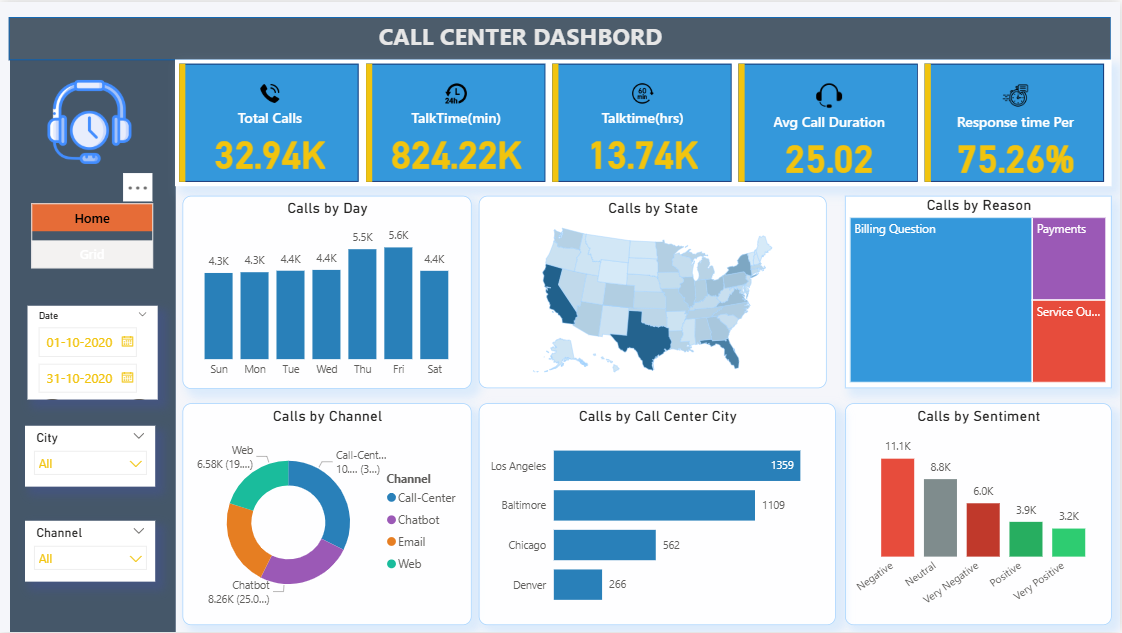

The page's visual inventory and layout, read from the dashboard file:
{"tool":"powerbi","page":{"name":"Home","canvas":[1280,720],"ordinal":0},"visuals":[{"type":"shape","box":[11,65.9,189.4,654.5],"z":0},{"type":"shape","box":[10.5,16.8,1259.6,49.4],"z":1000},{"type":"cardVisual","fields":{"Data":["_measures.Total Calls","_measures.TalkTime(min)","_measures.Talktime(hrs)","_measures.Avg Call Duration","_measures.Response time Per"]},"box":[199.8,66.2,1070.3,145.1],"z":2000},{"type":"textbox","box":[382.6,16.3,424.4,45.3],"z":3000},{"type":"clusteredColumnChart","title":" Calls by Day","fields":{"Y":["_measures.Total Calls"],"Category":["Calender.Day"]},"box":[208.1,220.9,330.2,220.9],"z":4000},{"type":"donutChart","title":" Calls by Channel","fields":{"Category":["calls.Channel"],"Y":["_measures.Total Calls"]},"box":[208.1,458.1,330.2,253.5],"z":5000},{"type":"shapeMap","title":" Calls by State","fields":{"Category":["calls.State"],"Value":["_measures.Total Calls"]},"box":[546.5,220.9,397.7,219.8],"z":6000},{"type":"treemap","title":" Calls by Reason","fields":{"Group":["calls.Reason"],"Values":["_measures.Total Calls"]},"box":[965.1,220.9,304.7,219.8],"z":7000},{"type":"clusteredColumnChart","title":" Calls by Sentiment","fields":{"Y":["_measures.Total Calls"],"Category":["calls.Sentiment"]},"box":[965.1,458.1,304.7,253.5],"z":8000},{"type":"clusteredBarChart","title":" Calls by Call Center City","fields":{"Category":["calls.Call_Centres_City"],"Y":["_measures.Total Calls"]},"box":[546.5,458.1,408.1,253.5],"z":9000},{"type":"slicer","title":"Date","fields":{"Values":["Calender.Date"]},"box":[31.4,347.7,148.8,107],"z":10000},{"type":"slicer","fields":{"Values":["calls.City"]},"box":[29.1,483.7,148.8,69.8],"z":11000},{"type":"slicer","fields":{"Values":["calls.Channel"]},"box":[29.1,593,148.8,69.8],"z":12000},{"type":"image","box":[41.9,84.9,122.1,105.8],"z":13000},{"type":"pageNavigator","box":[36,230.2,139.5,74.4],"z":14000}]}

Visuals, with their boxes in screenshot pixels (x1, y1, x2, y2), scaled from the page's 1280x720 canvas onto the 1122x633 screenshot:
shape: detection(10, 58, 176, 632)
shape: detection(9, 15, 1113, 58)
cardVisual - _measures.Total Calls x _measures.TalkTime(min): detection(175, 58, 1113, 186)
textbox: detection(335, 14, 707, 54)
" Calls by Day" clusteredColumnChart: detection(182, 194, 472, 388)
" Calls by Channel" donutChart: detection(182, 403, 472, 626)
" Calls by State" shapeMap: detection(479, 194, 828, 387)
" Calls by Reason" treemap: detection(846, 194, 1113, 387)
" Calls by Sentiment" clusteredColumnChart: detection(846, 403, 1113, 626)
" Calls by Call Center City" clusteredBarChart: detection(479, 403, 837, 626)
"Date" slicer: detection(28, 306, 158, 400)
slicer - calls.City: detection(26, 425, 156, 487)
slicer - calls.Channel: detection(26, 521, 156, 583)
image: detection(37, 75, 144, 168)
pageNavigator: detection(32, 202, 154, 268)
